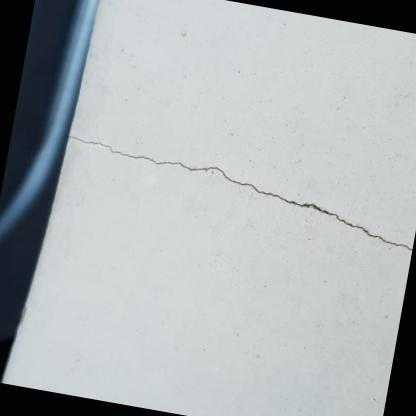crack: (69, 136, 412, 250)
